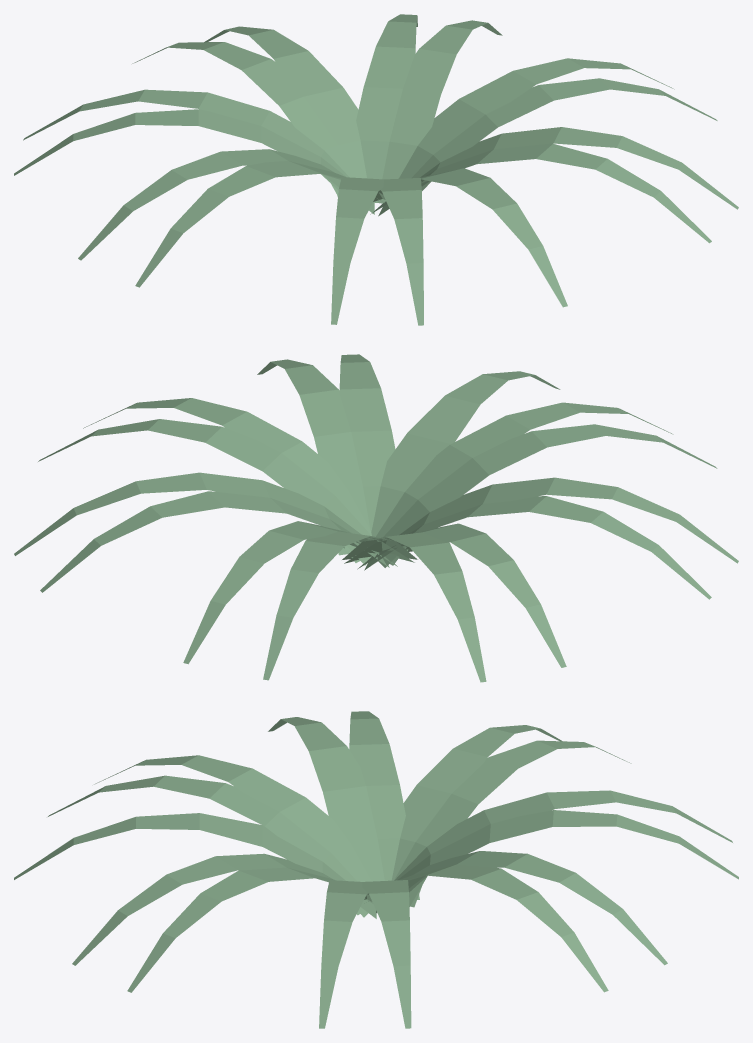
The model's file is desert-canyons-and-oases-agave-f905fa06__21001.glb.
The picture shows the model from 3 angles, top to bottom: view 1: azimuth 30°, elevation 25°; view 2: azimuth 150°, elevation 25°; view 3: azimuth 270°, elevation 25°; orthographic projection. The views are drawn at different scales.
Parts seen in each view (by area): view 1: agave; view 2: agave; view 3: agave.
Part boxes in pixels (bbox=[...]): agave: bbox=[14, 14, 738, 325]; agave: bbox=[14, 354, 738, 682]; agave: bbox=[14, 711, 738, 1028].
Bounding box in the file's own units: 2.32 × 0.2912 × 2.33.
